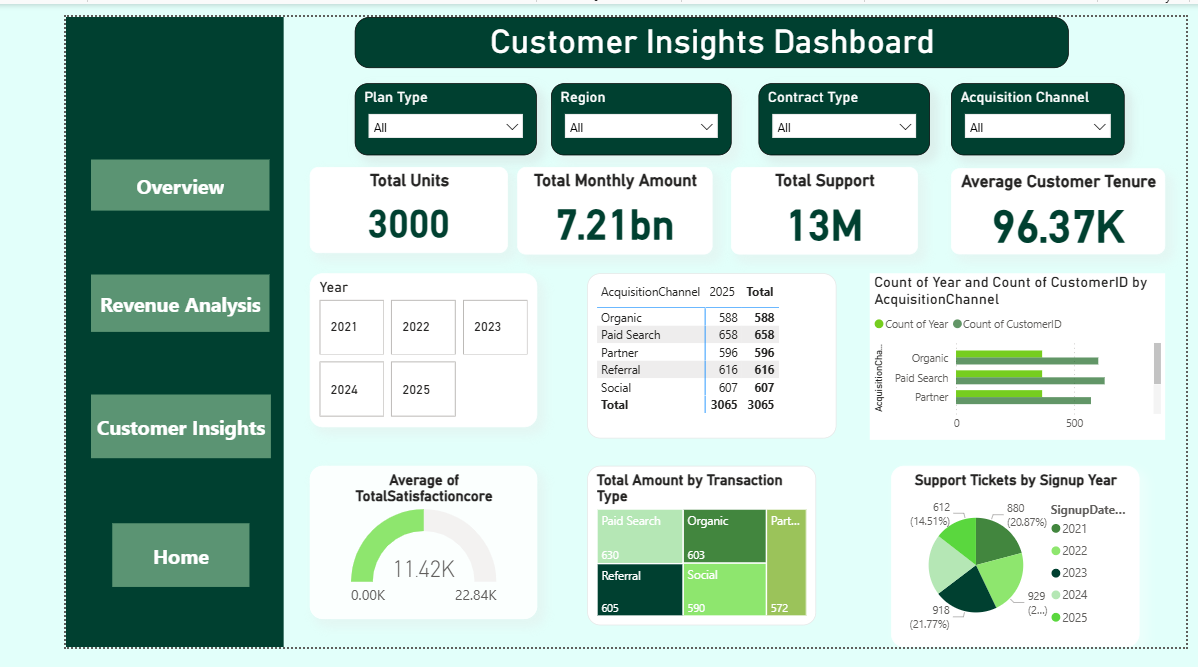

The page's visual inventory and layout, read from the dashboard file:
{"tool":"powerbi","page":{"name":"CustomerInsights","canvas":[1280,720],"ordinal":2},"visuals":[{"type":"textbox","title":"Customer Insights Dashboard","box":[330,0,816,58],"z":0},{"type":"slicer","title":"Region","fields":{"Values":["DimCustomer.Region"]},"box":[554,76,206,82],"z":1000},{"type":"slicer","title":"Acquisition Channel","fields":{"Values":["DimCustomer.AcquisitionChannel"]},"box":[1012,76,198,82],"z":2000},{"type":"slicer","title":"Contract Type","fields":{"Values":["DimCustomer.ContractType"]},"box":[792,76,196,82],"z":3000},{"type":"slicer","title":"Plan Type","fields":{"Values":["DimCustomer.Plan"]},"box":[330,76,208,82],"z":4000},{"type":"shape","box":[0,0,248.8,720],"z":5000},{"type":"card","title":"Total Units","fields":{"Values":["CountNonNull(DimCustomer.CustomerID)"]},"box":[278.3,171.7,226.7,98.3],"z":6000},{"type":"card","title":"Total Monthly Amount","fields":{"Values":["Sum(DimCustomer.TotalMonthly)"]},"box":[515,171.7,223.3,100],"z":7000},{"type":"treemap","title":"Total Amount by Transaction Type","fields":{"Group":["DimCustomer.AcquisitionChannel"],"Values":["CountNonNull(DimCustomer.ContractType)"]},"box":[595,512.5,261.2,182.5],"z":8000},{"type":"pivotTable","title":" Amount by Month","fields":{"Rows":["DimCustomer.AcquisitionChannel"],"Columns":["DimCustomer.LastActiveDate.Variation.Date Hierarchy.Year","DimCustomer.Plan"],"Values":["Sum(DimCustomer.LatePayments12M)"]},"box":[595,292.5,285,188.8],"z":9000},{"type":"card","title":"Average Customer Tenure","fields":{"Values":["Avg(DimCustomer.TotalTenure)"]},"box":[1011.7,173.3,245,98.3],"z":10000},{"type":"card","title":"Total Support","fields":{"Values":["Sum(DimCustomer.totalsupport)"]},"box":[760,171.7,213.3,100],"z":11000},{"type":"gauge","fields":{"Y":["Avg(DimCustomer.TotalSatisfactioncore)"]},"box":[278.8,512.5,260,175],"z":12000},{"type":"pieChart","title":"Support Tickets by Signup Year","fields":{"Category":["DimCustomer.SignupDate.Variation.Date Hierarchy.Year"],"Y":["Sum(DimCustomer.SupportTickets90D)"]},"box":[942.5,512.5,283.8,207.5],"z":13000},{"type":"advancedSlicerVisual","fields":{"Values":["DimCustomer.SignupDate.Variation.Date Hierarchy.Year"]},"box":[278.8,292.5,260,176.2],"z":14000},{"type":"clusteredBarChart","fields":{"Category":["DimCustomer.AcquisitionChannel"],"Y":["CountNonNull(DimCustomer.LastActiveDate.Variation.Date Hierarchy.Year)","CountNonNull(DimCustomer.CustomerID)"]},"box":[918.8,292.5,337.5,190],"z":15000},{"type":"actionButton","box":[28.6,162.9,204.3,58.6],"z":16000},{"type":"actionButton","box":[28.6,294.3,204.3,65.7],"z":17000},{"type":"actionButton","box":[28.6,431.4,205.7,72.9],"z":18000},{"type":"actionButton","box":[52.9,578.6,157.1,72.9],"z":19000}]}

Visuals, with their boxes in screenshot pixels (x1, y1, x2, y2), scaled from the page's 1280x720 canvas onto the 1198x667 screenshot:
"Customer Insights Dashboard" textbox: 309 0 1073 54
"Region" slicer: 519 70 711 146
"Acquisition Channel" slicer: 947 70 1132 146
"Contract Type" slicer: 741 70 925 146
"Plan Type" slicer: 309 70 504 146
shape: 0 0 233 666
"Total Units" card: 260 159 473 250
"Total Monthly Amount" card: 482 159 691 252
"Total Amount by Transaction Type" treemap: 557 475 801 644
" Amount by Month" pivotTable: 557 271 824 446
"Average Customer Tenure" card: 947 161 1176 252
"Total Support" card: 711 159 911 252
gauge - Avg(DimCustomer.TotalSatisfactioncore): 261 475 504 637
"Support Tickets by Signup Year" pieChart: 882 475 1148 666
advancedSlicerVisual - DimCustomer.SignupDate.Variation.Date Hierarchy.Year: 261 271 504 434
clusteredBarChart - DimCustomer.AcquisitionChannel x CountNonNull(DimCustomer.LastActiveDate.Variation.Date Hierarchy.Year): 860 271 1176 447
actionButton: 27 151 218 205
actionButton: 27 273 218 334
actionButton: 27 400 219 467
actionButton: 50 536 197 604
